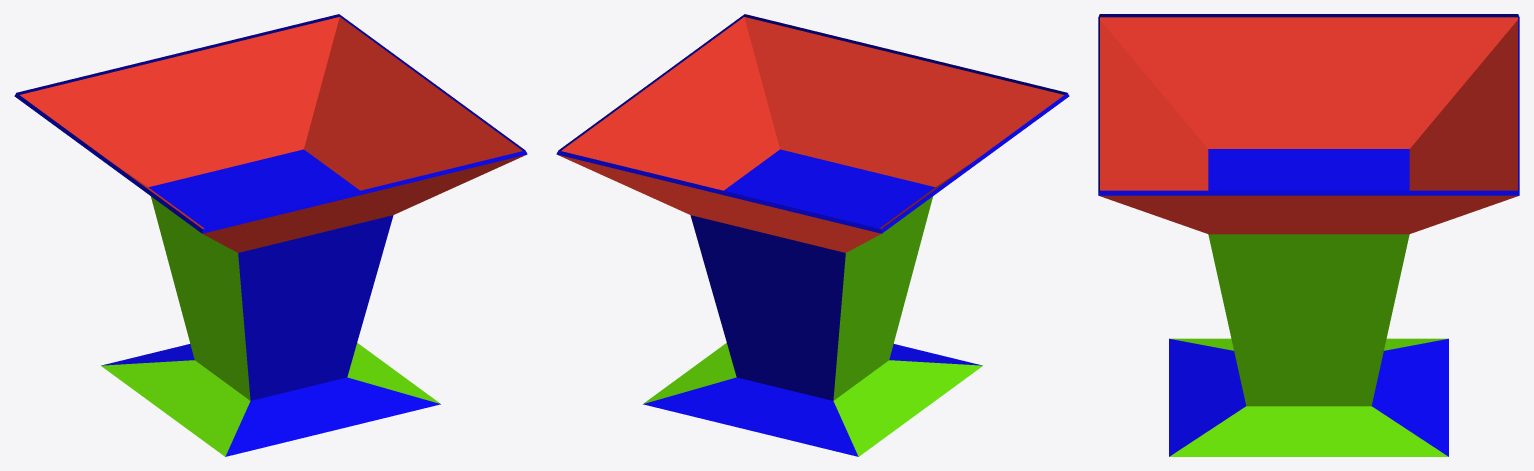
Rendered from cute_holder_3color.glb.
3 renders of one model, left to right at view 1: azimuth 30°, elevation 25°; view 2: azimuth 150°, elevation 25°; view 3: azimuth 270°, elevation 25°, orthographic. The views are drawn at different scales.
Parts seen in each view (by area): view 1: Cube; view 2: Cube; view 3: Cube.
Part boxes in pixels (left/top/right/bottom): Cube: left=14, top=14, right=527, bottom=456; Cube: left=556, top=14, right=1069, bottom=456; Cube: left=1098, top=14, right=1519, bottom=456.
Bounding box in the file's own units: 4.19 × 3.24 × 4.19.
